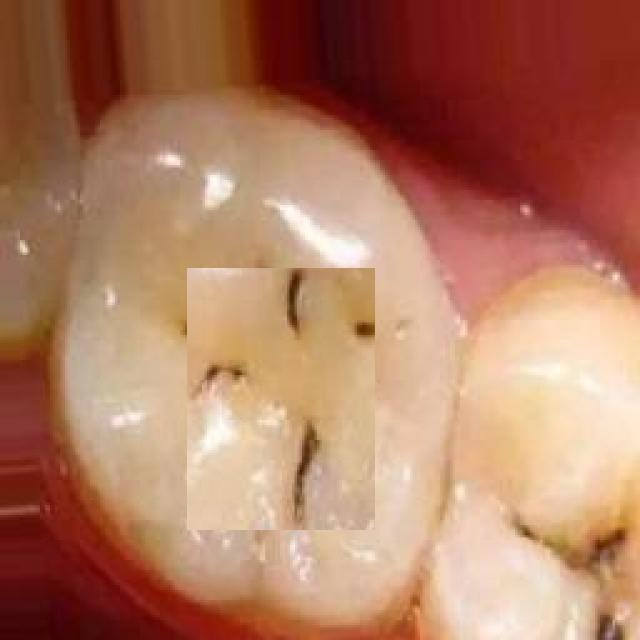decay: (187, 268, 375, 530), (515, 512, 640, 640)
